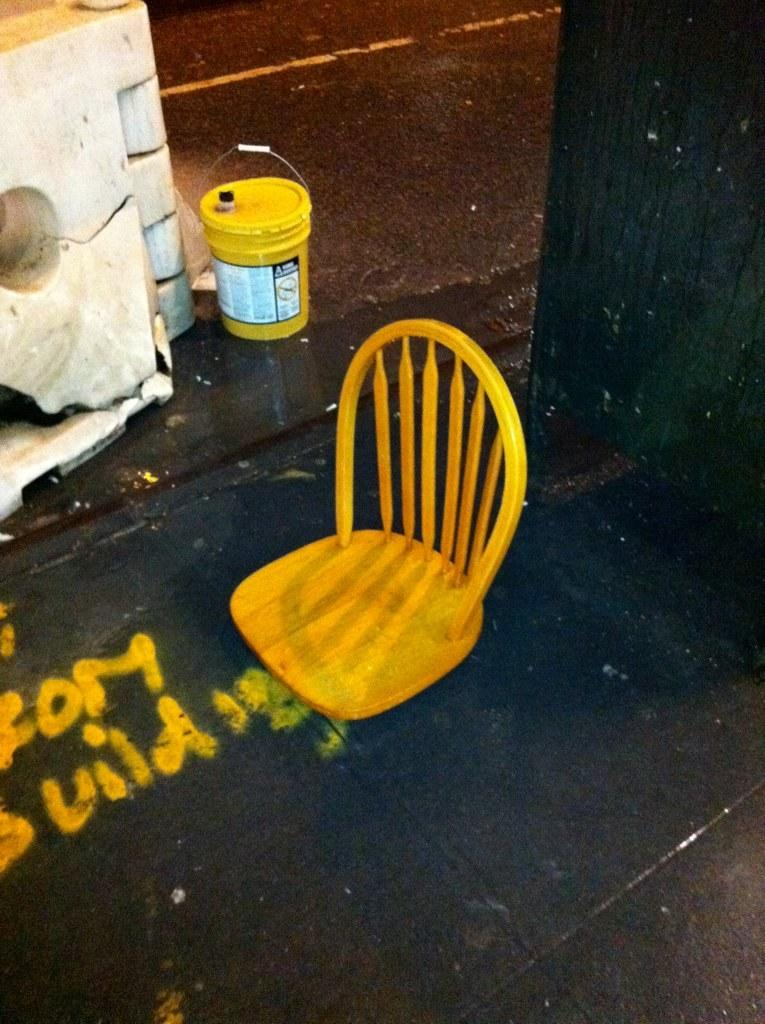Chair: (223, 301, 540, 776)
